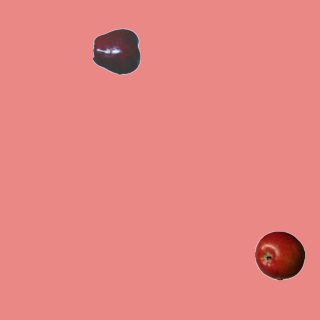Apple Braeburn: (254, 230, 304, 280)
Apple Red Delicious: (92, 26, 142, 76)
